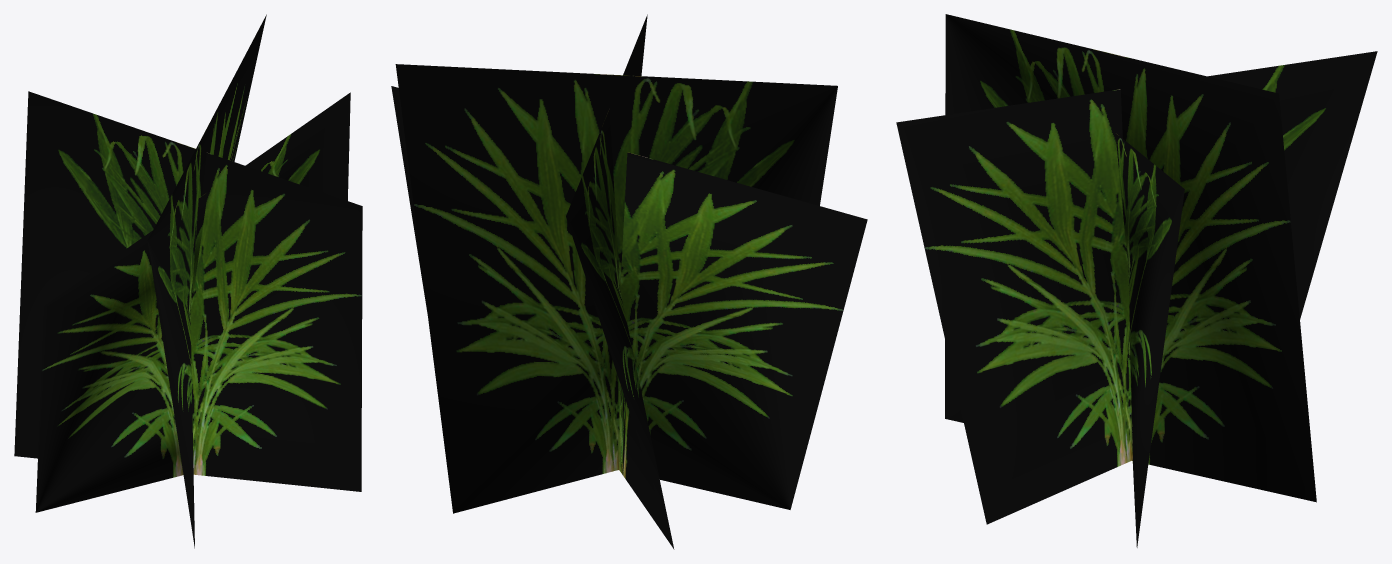
Rendered from obj__tropw7.obj.
3 renders of one model, left to right at view 1: azimuth 30°, elevation 25°; view 2: azimuth 150°, elevation 25°; view 3: azimuth 270°, elevation 25°, orthographic. The views are drawn at different scales.
Visible parts, largest first — view 1: tropw7.tga; view 2: tropw7.tga; view 3: tropw7.tga.
Part boxes in pixels (x1=…): tropw7.tga: x1=14, y1=14, x2=362, y2=548; tropw7.tga: x1=391, y1=14, x2=867, y2=549; tropw7.tga: x1=896, y1=14, x2=1377, y2=547.
Bounding box in the file's own units: 119 × 117 × 114.
